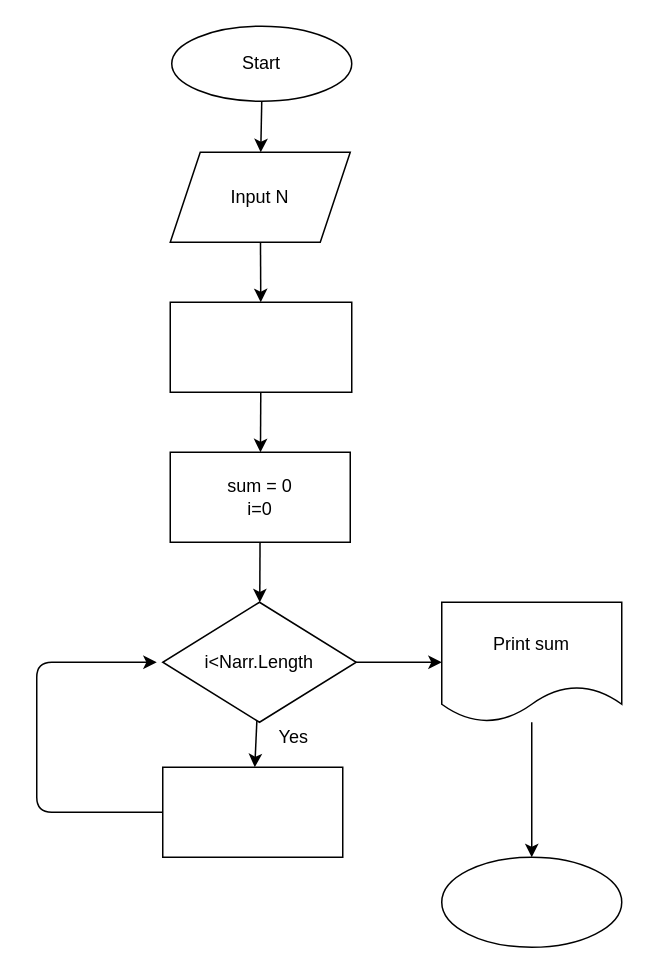
This 648x974 diagram has some shape labels left out. The centre of each missing label's shape, as x and y in pixels:
Finish: the point at 531,901
sum+=Narr[i]: the point at 252,811
преобразовать N в массив целых Narr: the point at 260,346
